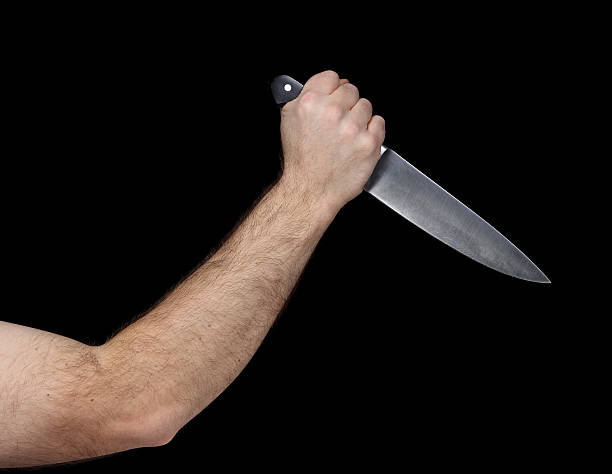knife: (269, 70, 553, 286)
